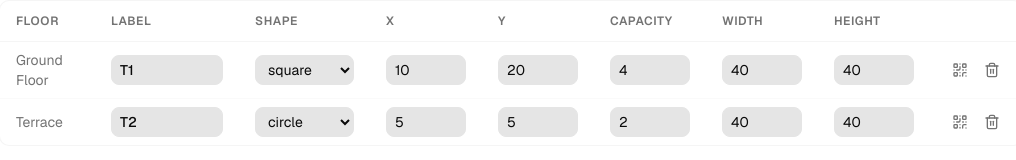
Test: FloorPlanListView › reverts an invalid edit instead of committing it
The image size is (1016, 160).
Replace the text in the number field with test id "floor-plan-list-capacity-t1" with "0" at (650, 70), box [610,55,690,85]
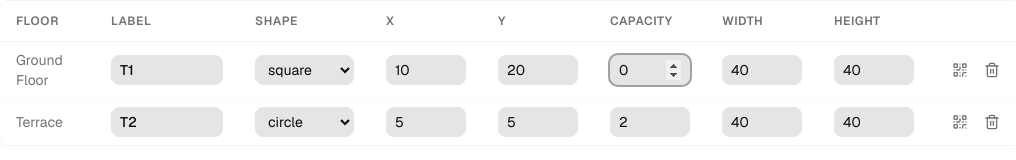
Press Tab
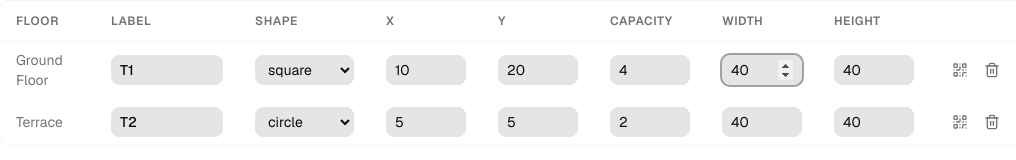
expect the number field with test id "floor-plan-list-capacity-t1" holds "4": met, box [610,55,690,85]
